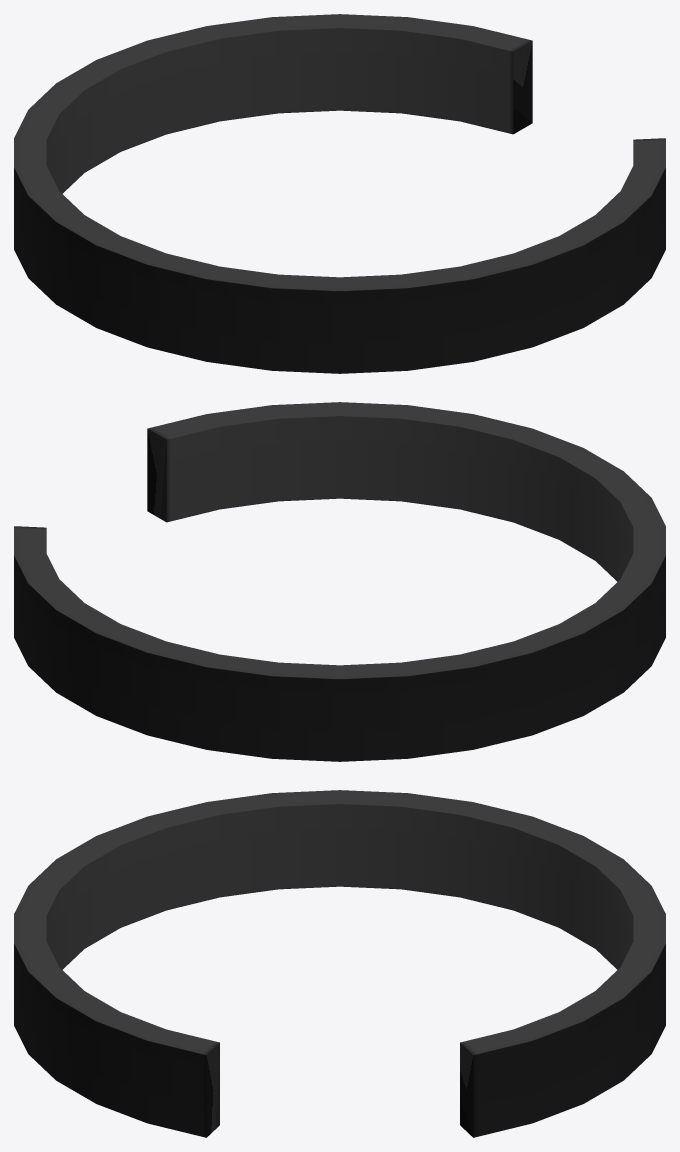
File: Desk.dae
The picture shows the model from 3 angles, top to bottom: view 1: azimuth 30°, elevation 25°; view 2: azimuth 150°, elevation 25°; view 3: azimuth 270°, elevation 25°; orthographic projection.
Visible parts, largest first — view 1: polySurface5; view 2: polySurface5; view 3: polySurface5.
Part boxes in pixels (x1=…): polySurface5: x1=14, y1=14, x2=665, y2=373; polySurface5: x1=14, y1=402, x2=665, y2=761; polySurface5: x1=14, y1=790, x2=665, y2=1137.
Bounding box in the file's own units: 47.84 × 6.96 × 49.73.
